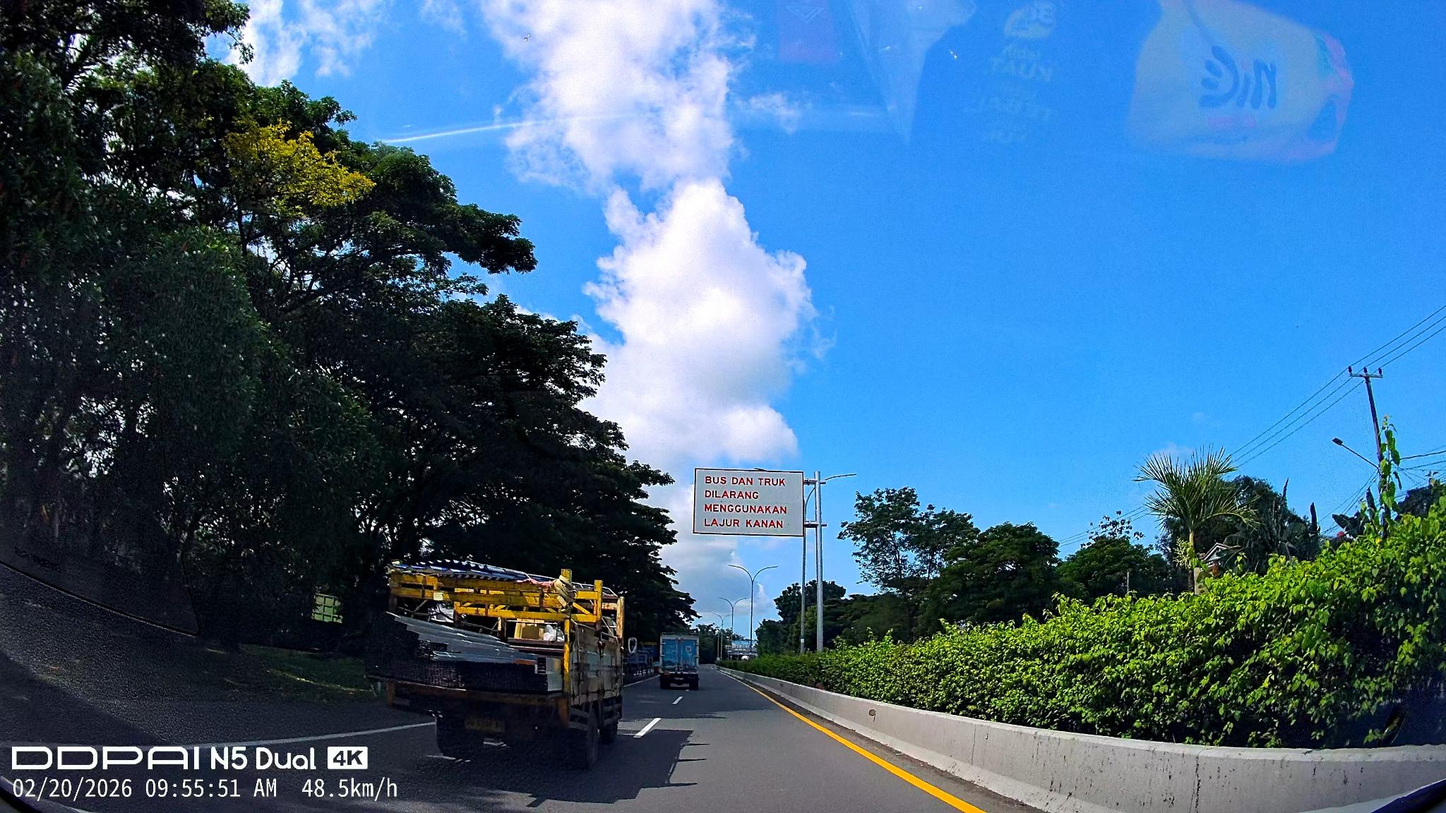rambu_teks: (693, 468, 804, 537)
